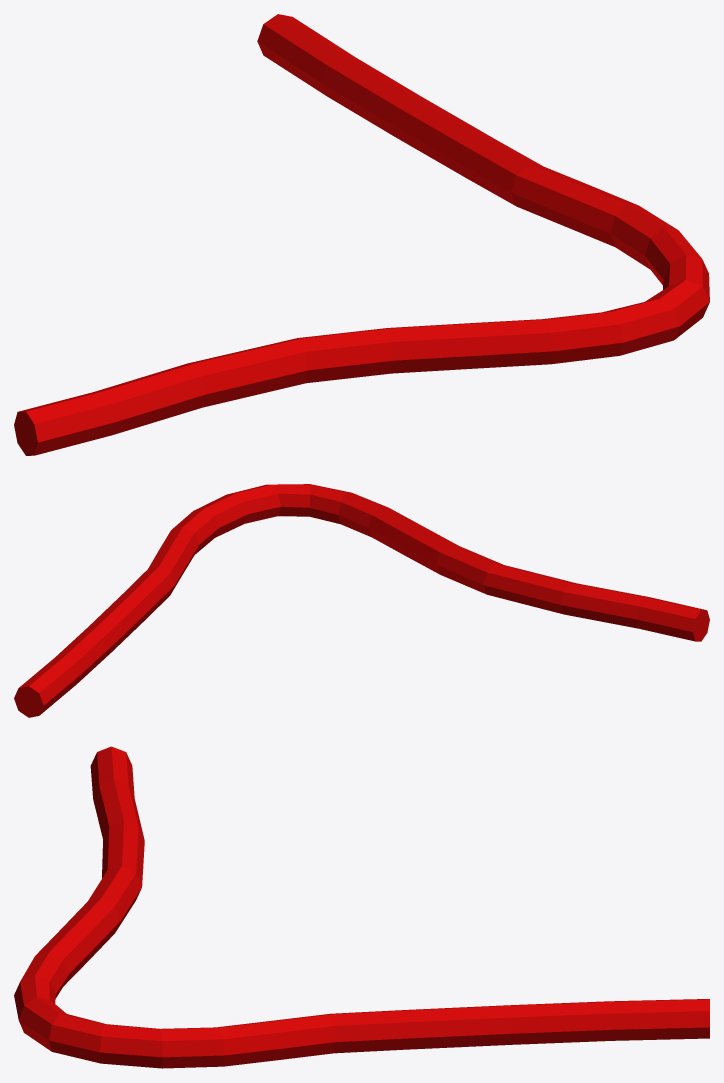
Rendered from WireC_1.fbx.
3 renders of one model, top to bottom at view 1: azimuth 30°, elevation 25°; view 2: azimuth 150°, elevation 25°; view 3: azimuth 270°, elevation 25°, orthographic. The views are drawn at different scales.
Visible parts, largest first — view 1: WireC_1; view 2: WireC_1; view 3: WireC_1.
Boxes of the visible parts, x1,y1,x2,y2 form: WireC_1: (14,14,709,455); WireC_1: (14,484,709,717); WireC_1: (14,746,709,1068).
Bounding box in the file's own units: 0.00577 × 0.000355 × 0.00581.
